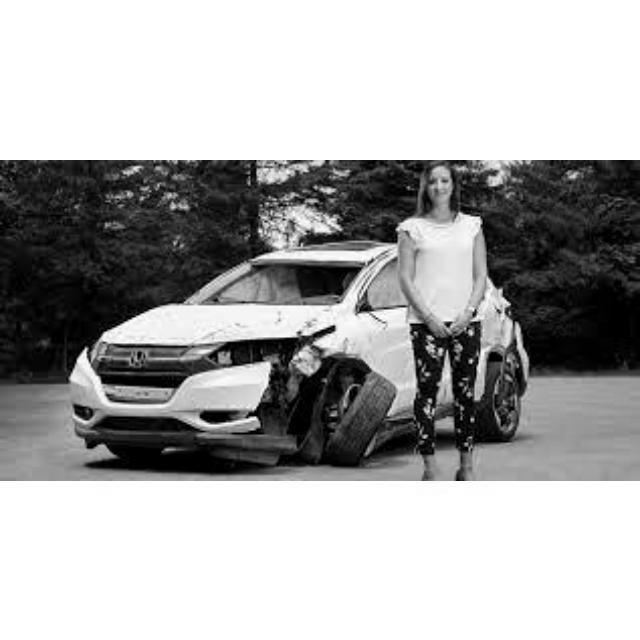front-bumper-dent: (59, 335, 343, 458)
